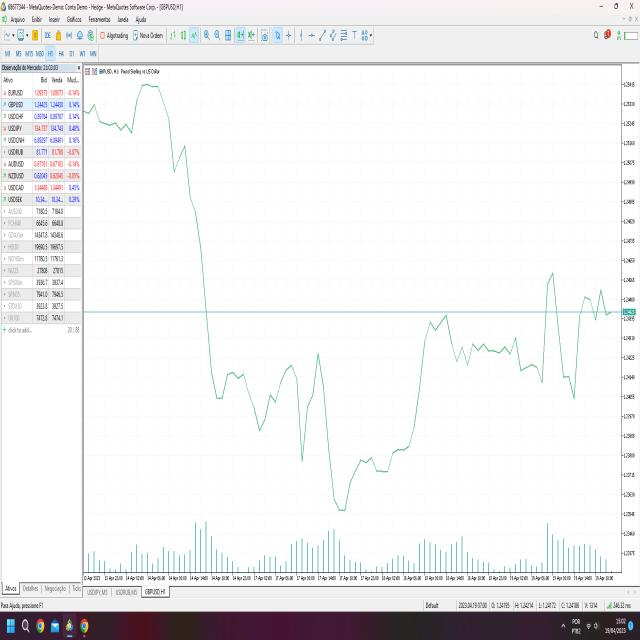bandeira_alta: (413, 303, 486, 483)
bandeira_baixa: (182, 147, 277, 446)
